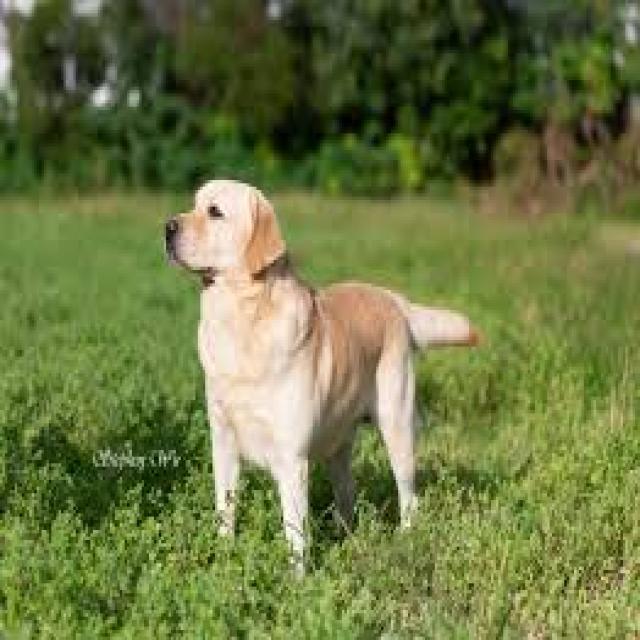dog: (168, 181, 485, 577)
